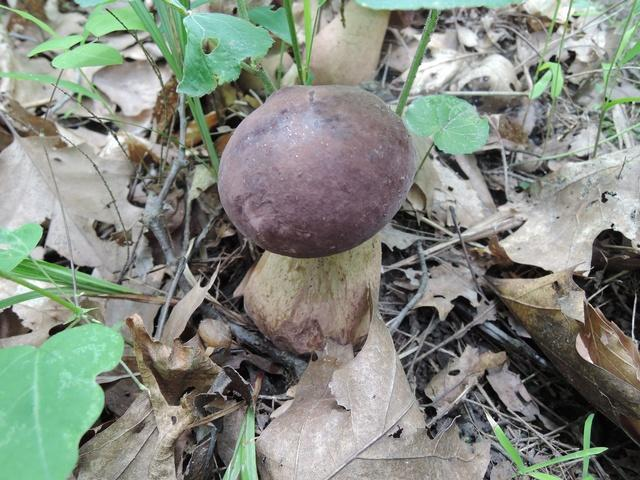poisonous_mushroom: (215, 82, 418, 356)
